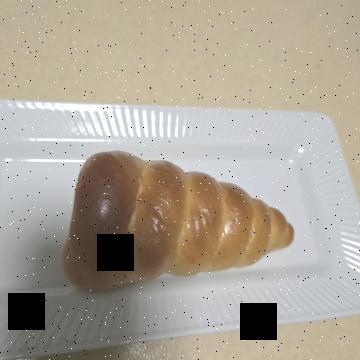cream horn: (135, 57, 321, 310)
